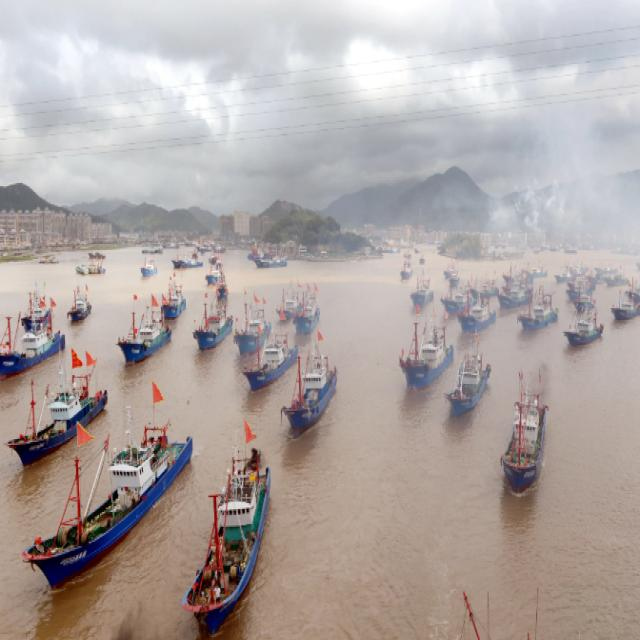fishing boat: (28, 410, 193, 589), (188, 422, 270, 633), (9, 362, 107, 458), (502, 361, 550, 495), (0, 289, 65, 384), (285, 346, 338, 431), (449, 334, 491, 426), (400, 324, 452, 391), (120, 302, 173, 367), (246, 330, 300, 390), (516, 282, 558, 332), (240, 293, 270, 356), (564, 304, 606, 346), (458, 294, 494, 333), (296, 290, 320, 336), (610, 284, 640, 320), (500, 276, 532, 307), (277, 283, 304, 319), (68, 280, 94, 317), (161, 278, 186, 316), (444, 284, 475, 314), (411, 270, 433, 309), (253, 249, 286, 269), (78, 255, 106, 277), (138, 252, 158, 280), (501, 265, 527, 286), (171, 253, 203, 270), (477, 275, 498, 299), (207, 256, 224, 283), (556, 264, 575, 288), (608, 270, 630, 289), (528, 259, 549, 277), (399, 259, 413, 283), (88, 245, 107, 262), (596, 260, 618, 274), (139, 244, 163, 256), (448, 270, 459, 288)
